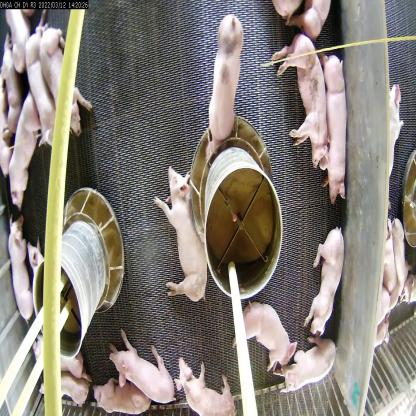Pig: (272, 30, 331, 170), (152, 166, 206, 308), (103, 322, 184, 409), (226, 281, 294, 369), (40, 25, 90, 144), (174, 336, 246, 415), (203, 20, 246, 144), (303, 225, 347, 341), (316, 50, 348, 205), (21, 34, 56, 172), (0, 93, 39, 207), (5, 216, 35, 317), (282, 338, 338, 392), (89, 368, 150, 415), (382, 82, 400, 175)
